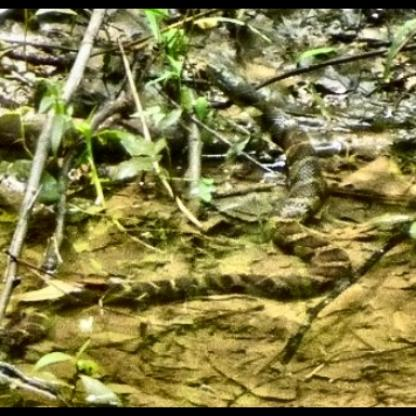Snake: (4, 16, 416, 390), (3, 1, 416, 172)
